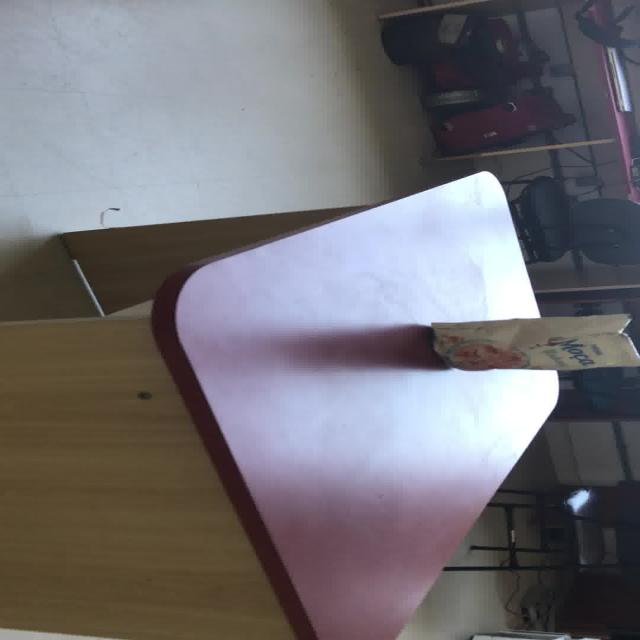corn flakes: (152, 169, 560, 638), (428, 312, 636, 371)
